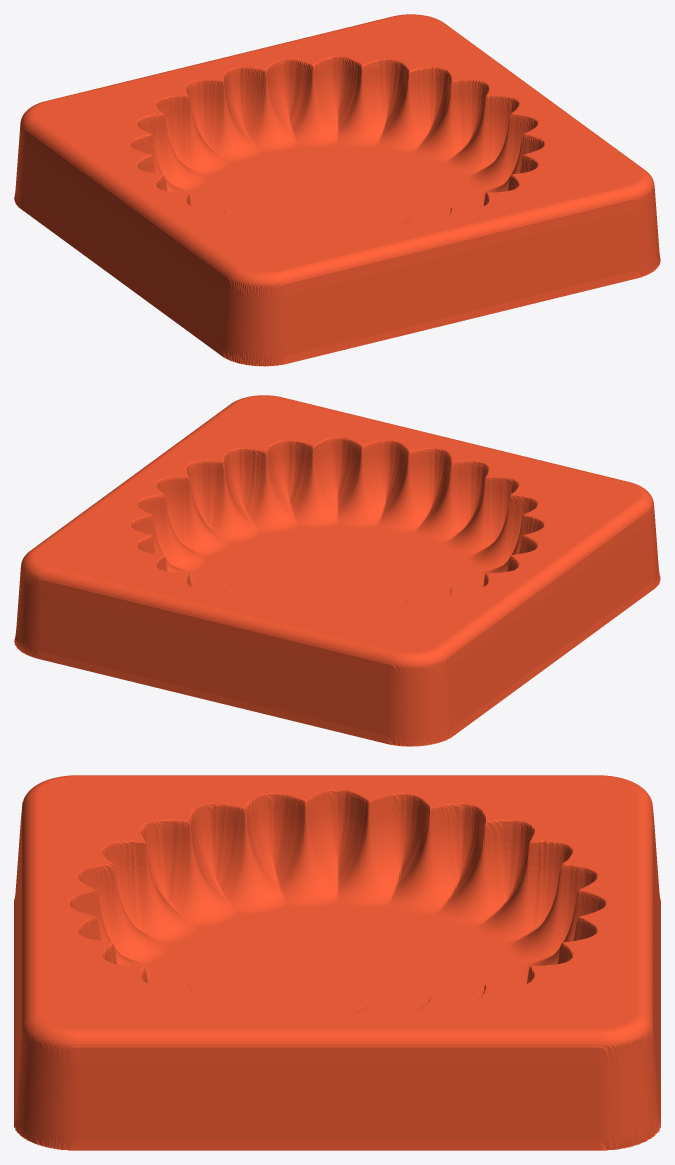
Rendered from mold.glb.
3 views of the same model, one above another, from view 1: azimuth 30°, elevation 25°; view 2: azimuth 150°, elevation 25°; view 3: azimuth 270°, elevation 25° (orthographic). The views are drawn at different scales.
Parts seen in each view (by area): view 1: geometry_0; view 2: geometry_0; view 3: geometry_0.
Part boxes in pixels (x1,y1,x2,y2): geometry_0: [14, 14, 660, 366]; geometry_0: [14, 395, 660, 746]; geometry_0: [14, 775, 660, 1150].
Bounding box in the file's own units: 0.0924 × 0.0175 × 0.0924.
